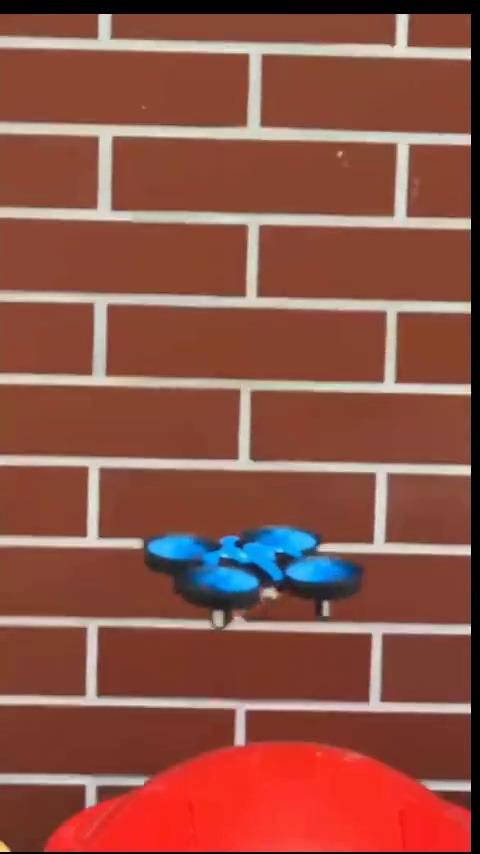drone: (144, 528, 365, 628)
